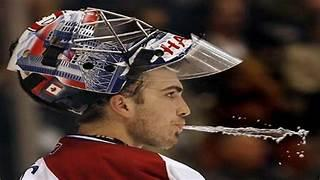Spitting: (26, 6, 238, 151)
